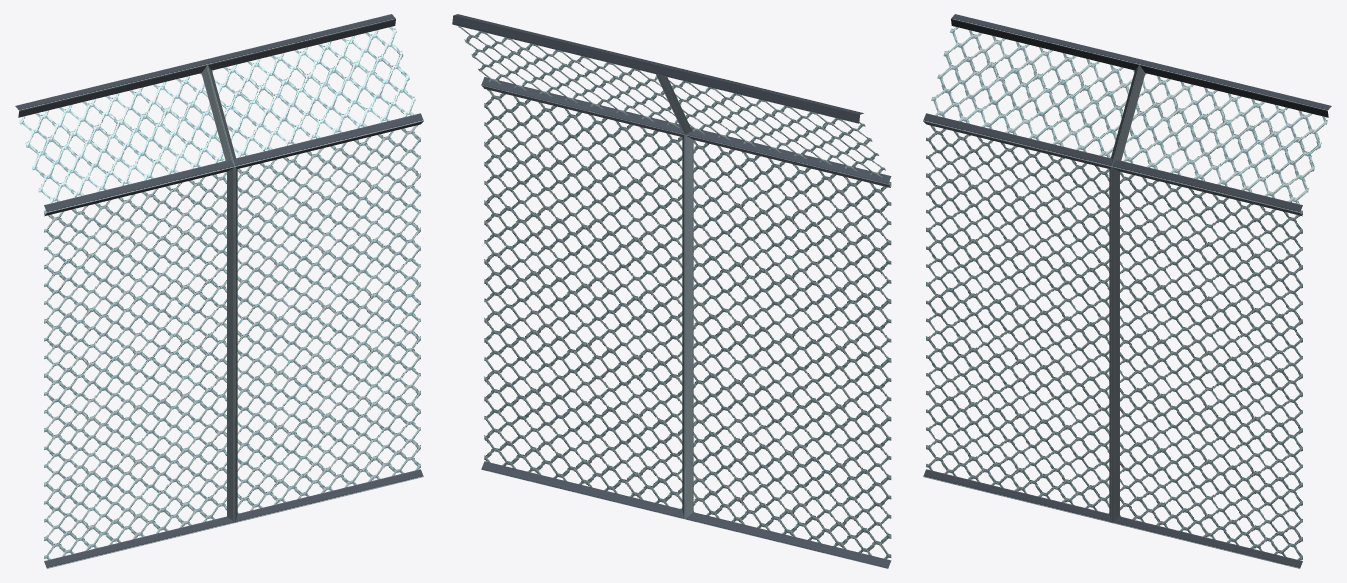
File: a_sewirefence02.glb
The picture shows the model from 3 angles, left to right: view 1: azimuth 30°, elevation 25°; view 2: azimuth 150°, elevation 25°; view 3: azimuth 330°, elevation 25°; orthographic projection. The views are drawn at different scales.
Parts seen in each view (by area): view 1: a_sewirefence02; view 2: a_sewirefence02; view 3: a_sewirefence02.
Boxes of the visible parts, <box> form: a_sewirefence02: <box>15,14,423,568</box>; a_sewirefence02: <box>452,14,891,568</box>; a_sewirefence02: <box>923,14,1331,568</box>.
Bounding box in the file's own units: 2 × 2.23 × 0.3028.
Materials: 2 (2 with a texture image).
